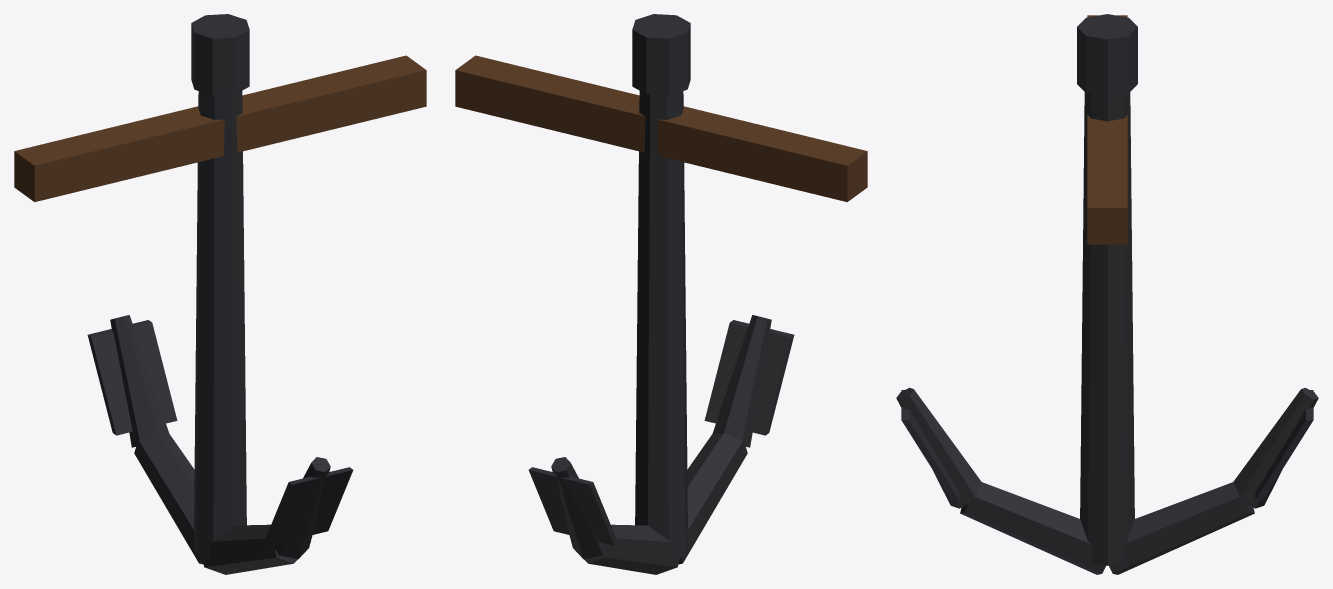
The model's file is amelioration--ancre.glb.
The picture shows the model from 3 angles, left to right: view 1: azimuth 30°, elevation 25°; view 2: azimuth 150°, elevation 25°; view 3: azimuth 270°, elevation 25°; orthographic projection.
Visible parts, largest first — view 1: ancre; view 2: ancre; view 3: ancre.
Boxes of the visible parts, <box> form: ancre: <box>14,14,426,574</box>; ancre: <box>455,14,867,574</box>; ancre: <box>896,14,1318,574</box>.
Size of the model in its own units: 1.8 by 2.39 by 1.67.
